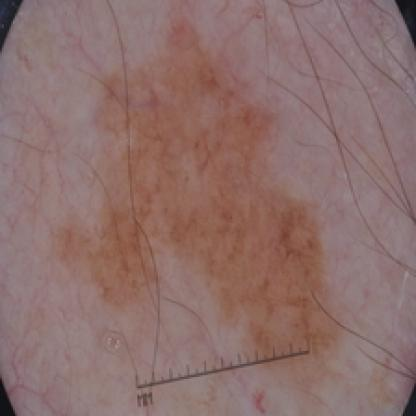Skin_Cancer-Malignant: (86, 21, 338, 370)
